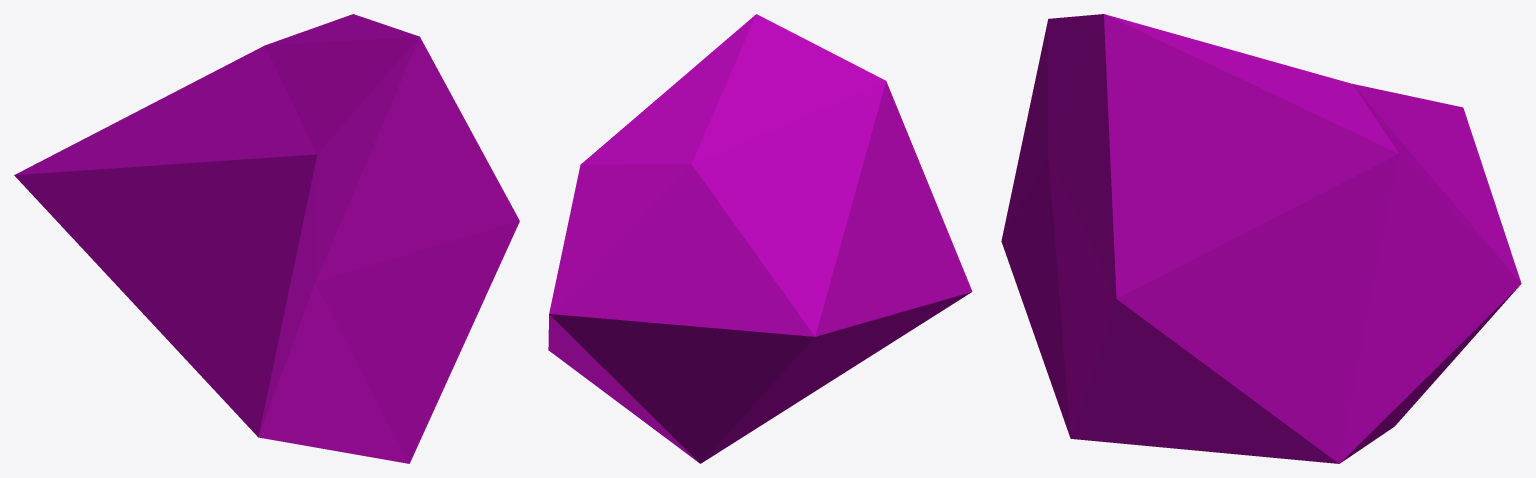
The picture shows the model from 3 angles, left to right: view 1: azimuth 30°, elevation 25°; view 2: azimuth 150°, elevation 25°; view 3: azimuth 270°, elevation 25°; orthographic projection. The views are drawn at different scales.
Visible parts, largest first — view 1: pasted__pasted__pSolid7 group25 group24; view 2: pasted__pasted__pSolid7 group25 group24; view 3: pasted__pasted__pSolid7 group25 group24.
Boxes of the visible parts, x1=… form: pasted__pasted__pSolid7 group25 group24: x1=14, y1=14, x2=519, y2=463; pasted__pasted__pSolid7 group25 group24: x1=548, y1=14, x2=972, y2=463; pasted__pasted__pSolid7 group25 group24: x1=1001, y1=14, x2=1521, y2=463.
Size of the model in its own units: 0.8201 by 0.8753 by 0.9195.
Materials: 1 (1 with a texture image).
